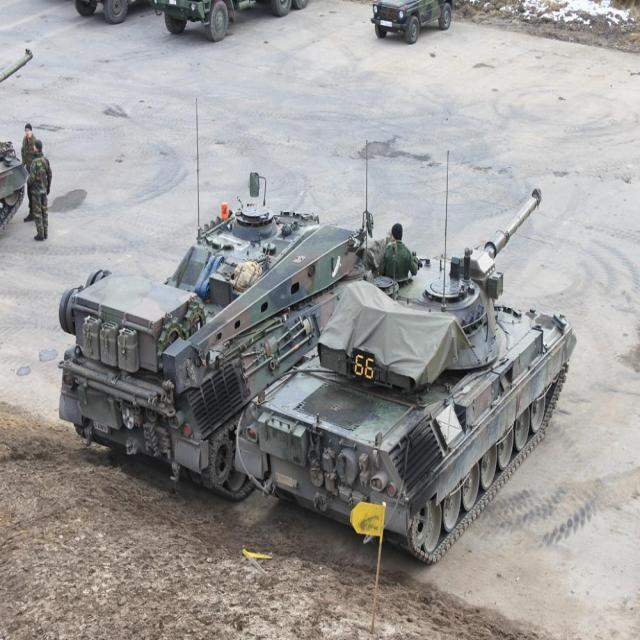tank: (258, 182, 578, 527), (51, 203, 377, 507)
